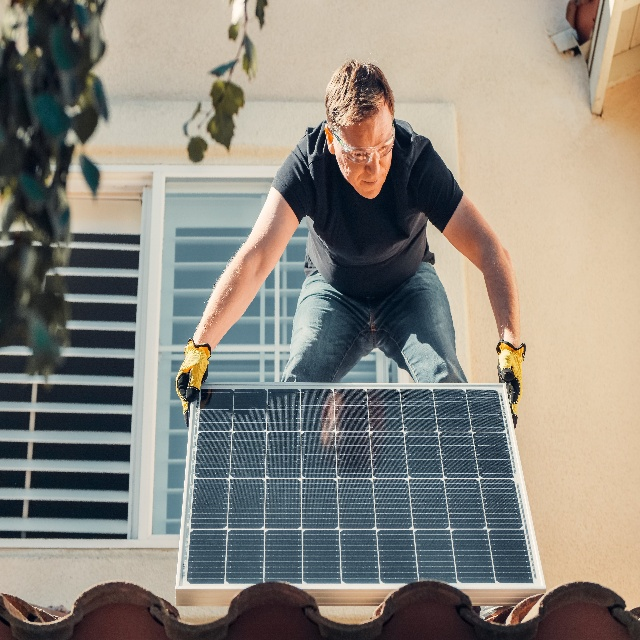Gafas: (340, 127, 395, 162)
Guantes: (173, 336, 213, 415), (497, 340, 527, 421)
